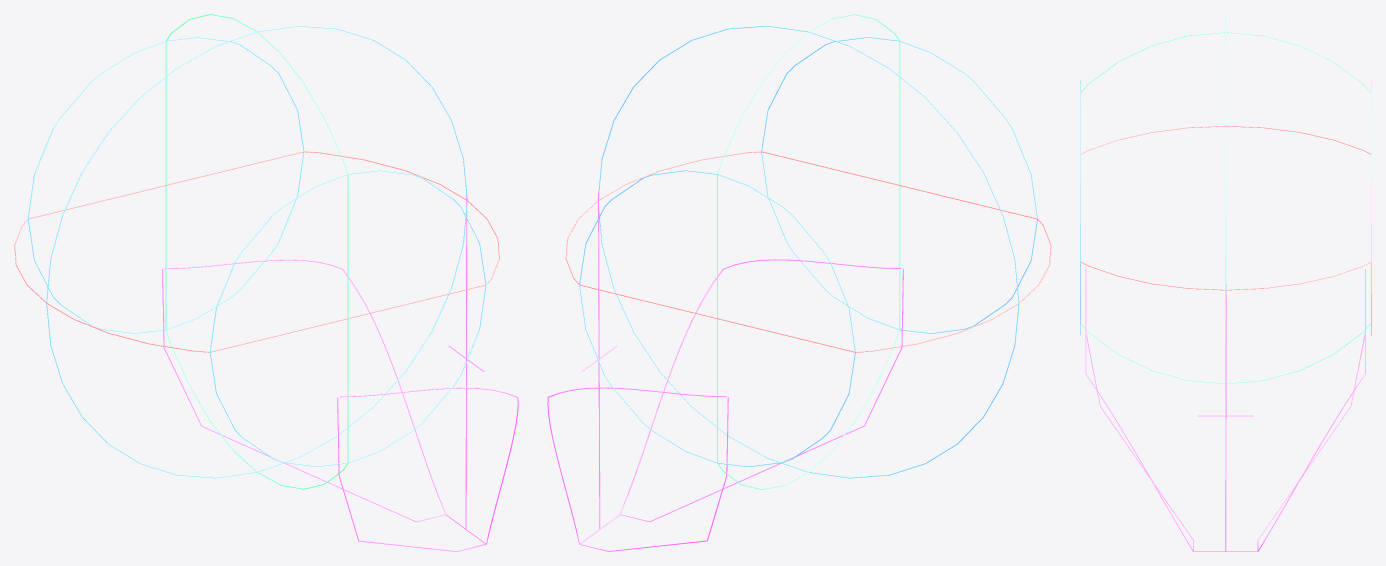
The model's file is loomis.glb.
The picture shows the model from 3 angles, left to right: view 1: azimuth 30°, elevation 25°; view 2: azimuth 150°, elevation 25°; view 3: azimuth 270°, elevation 25°; orthographic projection. The views are drawn at different scales.
Parts seen in each view (by area): view 1: 平面.002, 球体.004, Z, Y, X; view 2: 平面.002, 球体.004, Z, X, Y; view 3: 平面.002, Y, X, Z, 球体.004.
Boxes of the visible parts, bbox=[...] form: 平面.002: bbox=[162, 194, 518, 551]; 球体.004: bbox=[28, 36, 486, 466]; Z: bbox=[46, 25, 467, 478]; Y: bbox=[165, 14, 348, 489]; X: bbox=[14, 151, 499, 352]; 平面.002: bbox=[547, 194, 903, 551]; 球体.004: bbox=[579, 36, 1037, 466]; Z: bbox=[598, 25, 1019, 478]; X: bbox=[565, 151, 1051, 352]; Y: bbox=[717, 14, 900, 489]; 平面.002: bbox=[1085, 269, 1365, 551]; Y: bbox=[1081, 32, 1370, 383]; X: bbox=[1081, 125, 1370, 290]; Z: bbox=[1225, 14, 1226, 316]; 球体.004: bbox=[1080, 80, 1371, 335].
Bounding box in the file's own units: 1.77 × 2.21 × 1.33.
